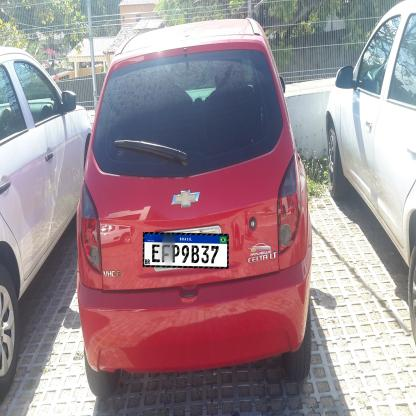PlacaM: (143, 232, 229, 269)
